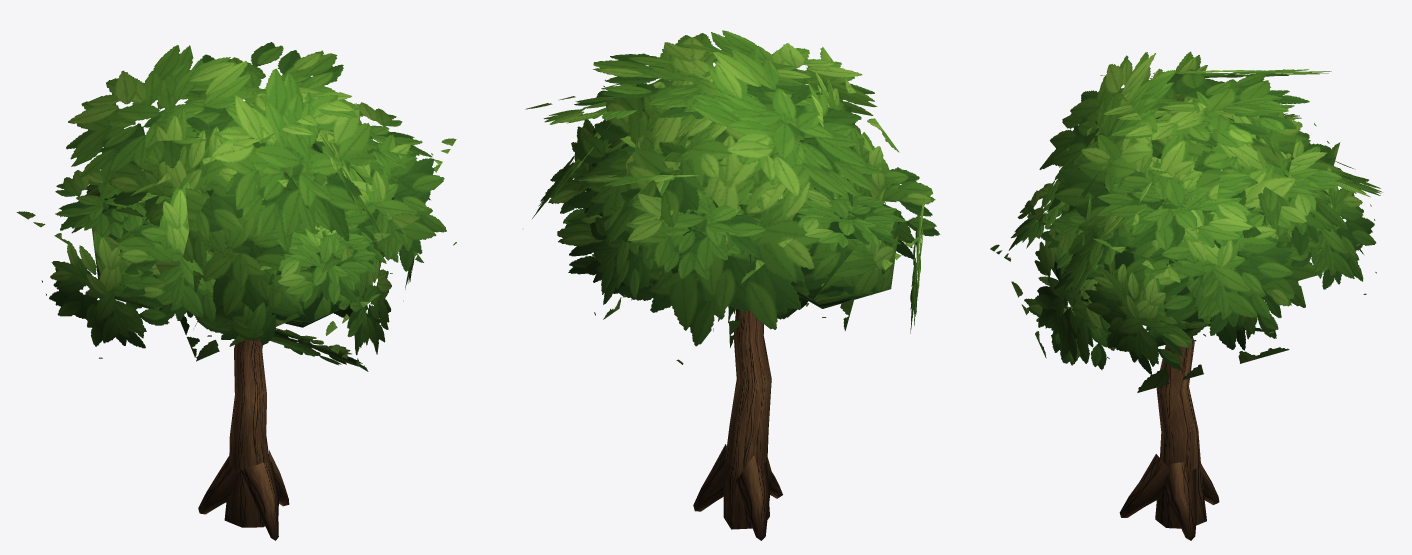
The model's file is tree_green_a_lod1.glb.
3 renders of one model, left to right at view 1: azimuth 30°, elevation 25°; view 2: azimuth 150°, elevation 25°; view 3: azimuth 270°, elevation 25°, orthographic. The views are drawn at different scales.
Parts seen in each view (by area): view 1: tree_green_a_lod1; view 2: tree_green_a_lod1; view 3: tree_green_a_lod1.
Part boxes in pixels (x1=…): tree_green_a_lod1: x1=16, y1=42, x2=456, y2=540; tree_green_a_lod1: x1=525, y1=30, x2=940, y2=540; tree_green_a_lod1: x1=990, y1=51, x2=1382, y2=540.
Bounding box in the file's own units: 4.27 × 4.64 × 3.63.
2 materials, 2 textured.
